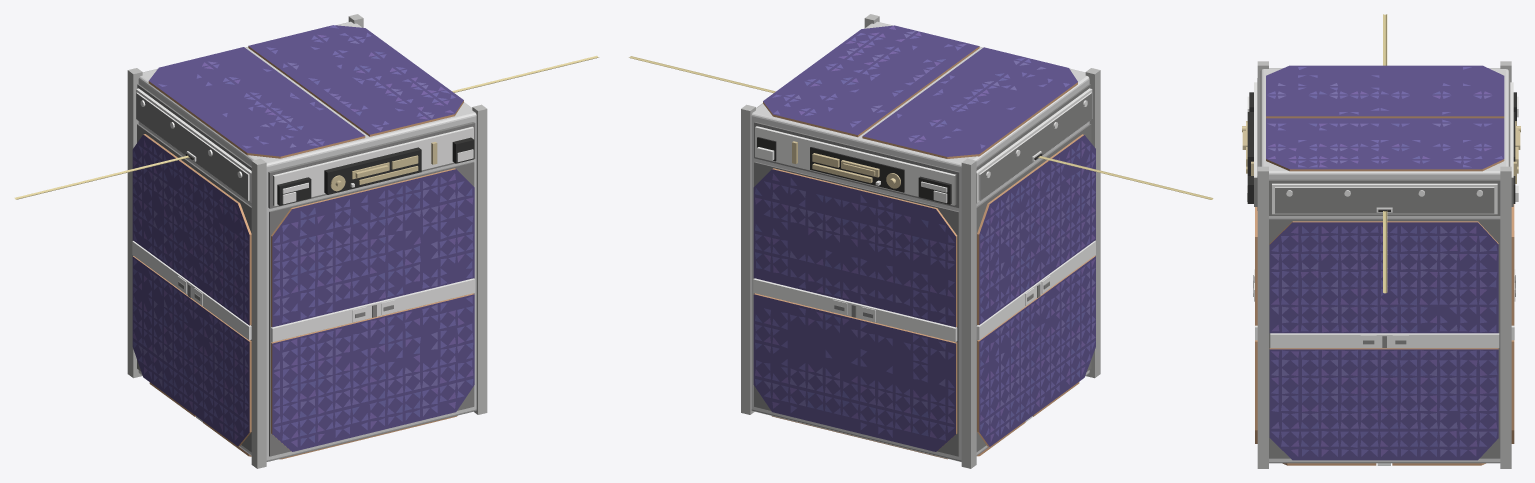
The model's file is cubesat.glb.
The picture shows the model from 3 angles, left to right: view 1: azimuth 30°, elevation 25°; view 2: azimuth 150°, elevation 25°; view 3: azimuth 270°, elevation 25°; orthographic projection. The views are drawn at different scales.
Visible parts, largest first — view 1: Layer_0; view 2: Layer_0; view 3: Layer_0.
Part boxes in pixels (x1,y1,x2,y2): Layer_0: [14, 14, 598, 468]; Layer_0: [629, 14, 1213, 468]; Layer_0: [1242, 14, 1520, 468].
Size of the model in its own units: 2 by 1 by 0.8463.
